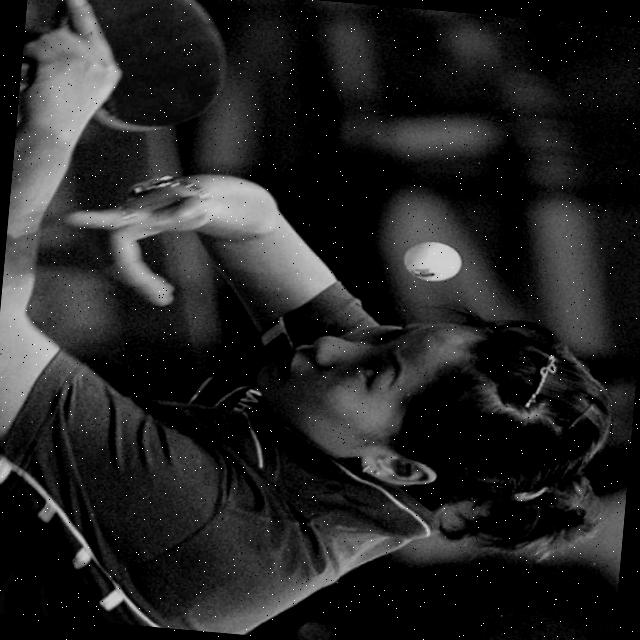ping-pong-ball: (399, 237, 470, 288)
